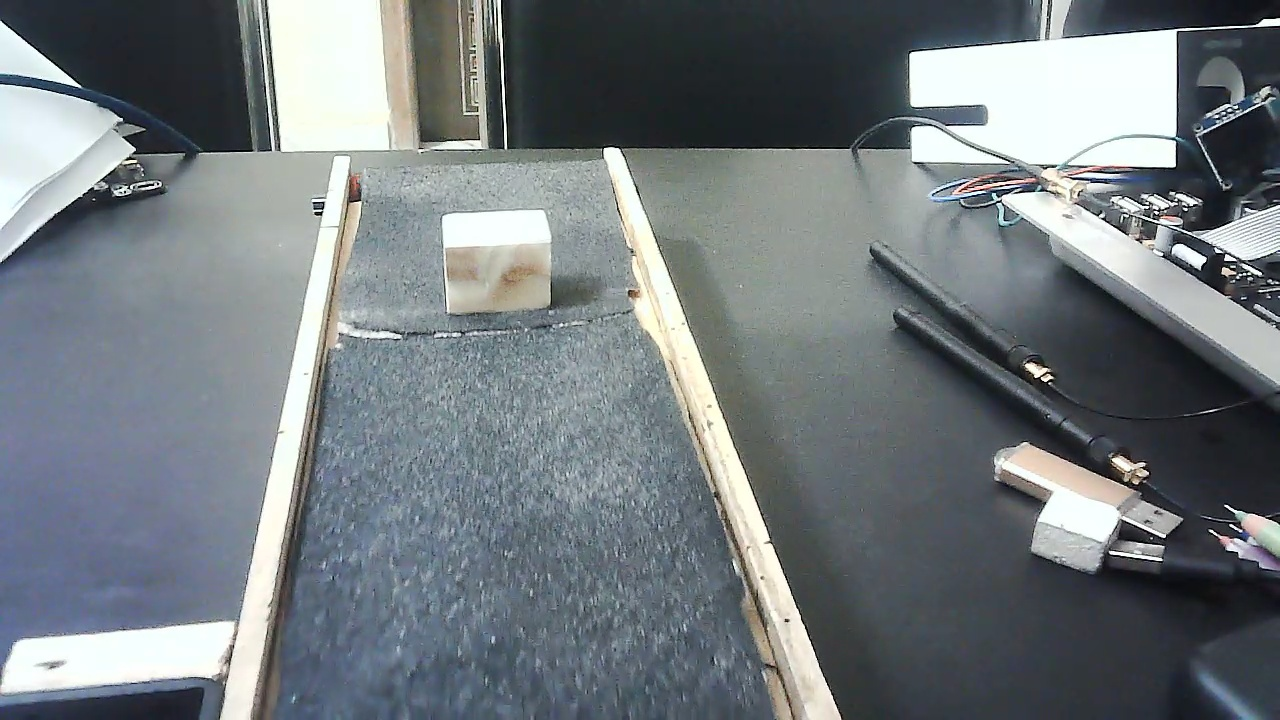Medium: (442, 205, 555, 318)
